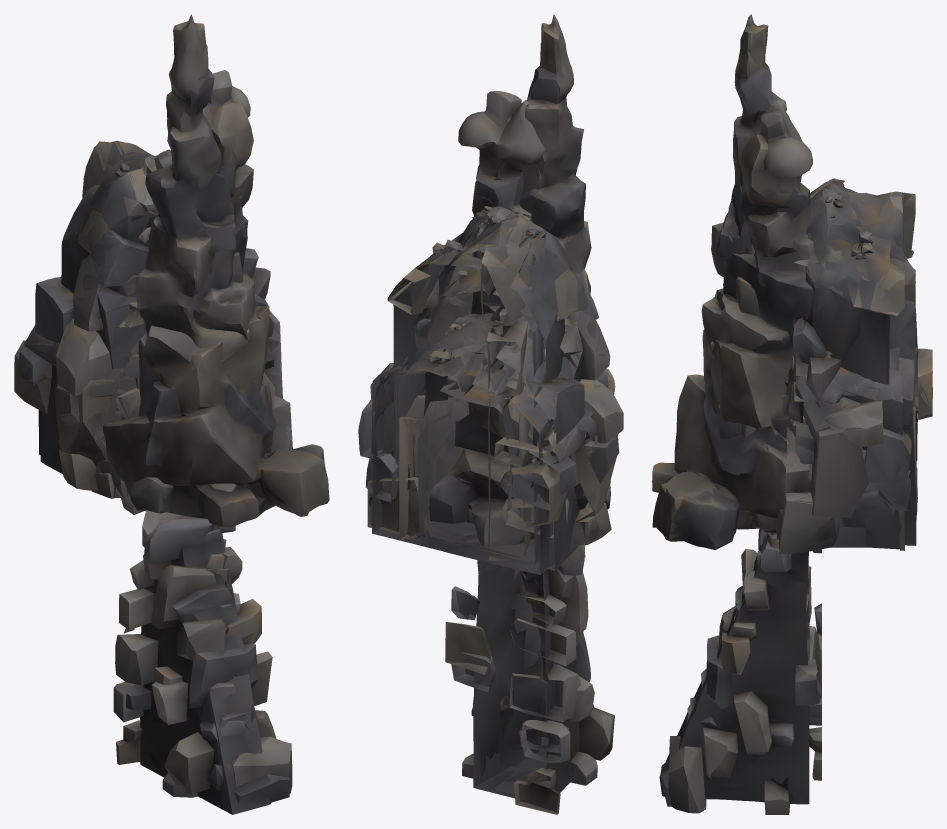
Rendered from smith_heart_rock_kit.glb.
3 renders of one model, left to right at view 1: azimuth 30°, elevation 25°; view 2: azimuth 150°, elevation 25°; view 3: azimuth 270°, elevation 25°, orthographic.
Visible parts, largest first — view 1: Kit_RockNeedleB, Kit_RockLipA, Kit_RockNeedleA, Kit_RockLipB, Kit_RockTallA, Kit_RockTallAFar, Kit_RockFaceC, Kit_RockCrestA, Kit_RockFaceCFar, Kit_RockCrestAFar, Kit_RockButtress, Kit_RockButtressFar (+2 smaller); view 2: Kit_RockLipB, Kit_RockNeedleB, Kit_RockLipA, Kit_RockNeedleA, Kit_RockButtressFar, Kit_RockTallAFar, Kit_RockTallA, Kit_RockButtress, Kit_RockCrestAFar, Kit_RockCrestA, Kit_RockFaceC, Kit_RockCrestBFar (+8 smaller); view 3: Kit_RockNeedleB, Kit_RockLipA, Kit_RockTallA, Kit_RockLipB, Kit_RockNeedleA, Kit_RockFaceC, Kit_RockCrestA, Kit_RockTallAFar, Kit_RockCrestAFar, Kit_RockFaceCFar, Kit_RockButtress, Kit_RockButtressFar (+3 smaller).
Part boxes in pixels (x1,y1,x2,y2): Kit_RockNeedleB: [102, 70, 329, 527]; Kit_RockLipA: [115, 510, 289, 814]; Kit_RockNeedleA: [130, 14, 259, 513]; Kit_RockLipB: [113, 497, 292, 812]; Kit_RockTallA: [35, 149, 270, 498]; Kit_RockTallAFar: [36, 151, 270, 498]; Kit_RockFaceC: [19, 297, 281, 497]; Kit_RockCrestA: [14, 318, 292, 497]; Kit_RockFaceCFar: [19, 293, 282, 497]; Kit_RockCrestAFar: [15, 316, 292, 498]; Kit_RockButtress: [82, 141, 156, 198]; Kit_RockButtressFar: [82, 140, 156, 195]; Kit_RockLipB: [451, 558, 597, 798]; Kit_RockNeedleB: [429, 91, 615, 546]; Kit_RockLipA: [445, 545, 614, 814]; Kit_RockNeedleA: [467, 14, 610, 523]; Kit_RockButtressFar: [399, 216, 535, 561]; Kit_RockTallAFar: [367, 206, 609, 534]; Kit_RockTallA: [367, 206, 610, 536]; Kit_RockButtress: [399, 213, 535, 561]; Kit_RockCrestAFar: [358, 317, 616, 574]; Kit_RockCrestA: [358, 317, 617, 573]; Kit_RockFaceC: [370, 341, 623, 570]; Kit_RockCrestBFar: [394, 304, 583, 564]; Kit_RockNeedleB: [652, 99, 813, 549]; Kit_RockLipA: [659, 532, 821, 806]; Kit_RockTallA: [792, 179, 904, 550]; Kit_RockLipB: [668, 528, 821, 814]; Kit_RockNeedleA: [707, 14, 786, 539]; Kit_RockFaceC: [782, 347, 917, 549]; Kit_RockCrestA: [779, 313, 932, 553]; Kit_RockTallAFar: [793, 178, 904, 550]; Kit_RockCrestAFar: [779, 312, 932, 553]; Kit_RockFaceCFar: [782, 348, 917, 548]; Kit_RockButtress: [810, 183, 915, 476]; Kit_RockButtressFar: [810, 183, 916, 514].
Size of the model in its own units: 32.02 by 109 by 36.09.
